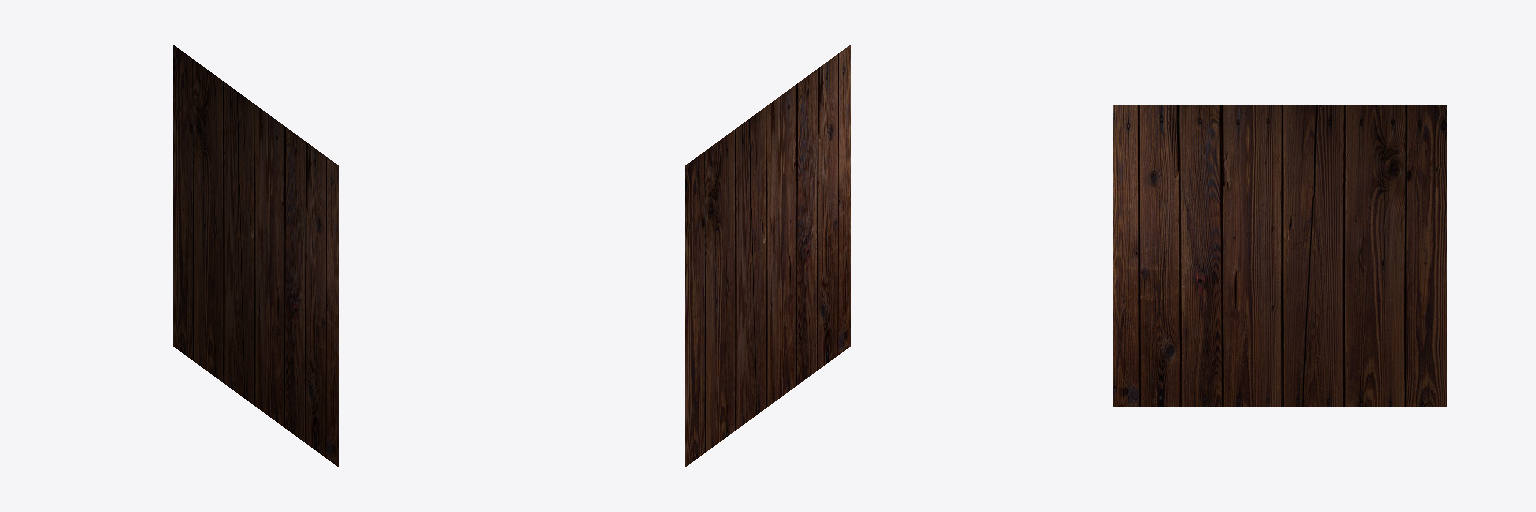
3 renders of one model, left to right at view 1: azimuth 30°, elevation 25°; view 2: azimuth 150°, elevation 25°; view 3: azimuth 270°, elevation 25°, orthographic.
Visible parts, largest first — view 1: Plane; view 2: Plane; view 3: Plane.
Boxes of the visible parts, x1=… form: Plane: x1=173, y1=45, x2=338, y2=466; Plane: x1=685, y1=45, x2=850, y2=466; Plane: x1=1113, y1=105, x2=1446, y2=406.
Size of the model in its own units: 0 by 10 by 10.
Materials: 1 (1 with a texture image).